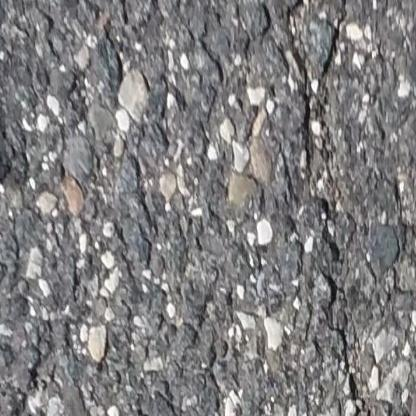Cracks: (287, 0, 348, 270), (323, 273, 366, 416)
